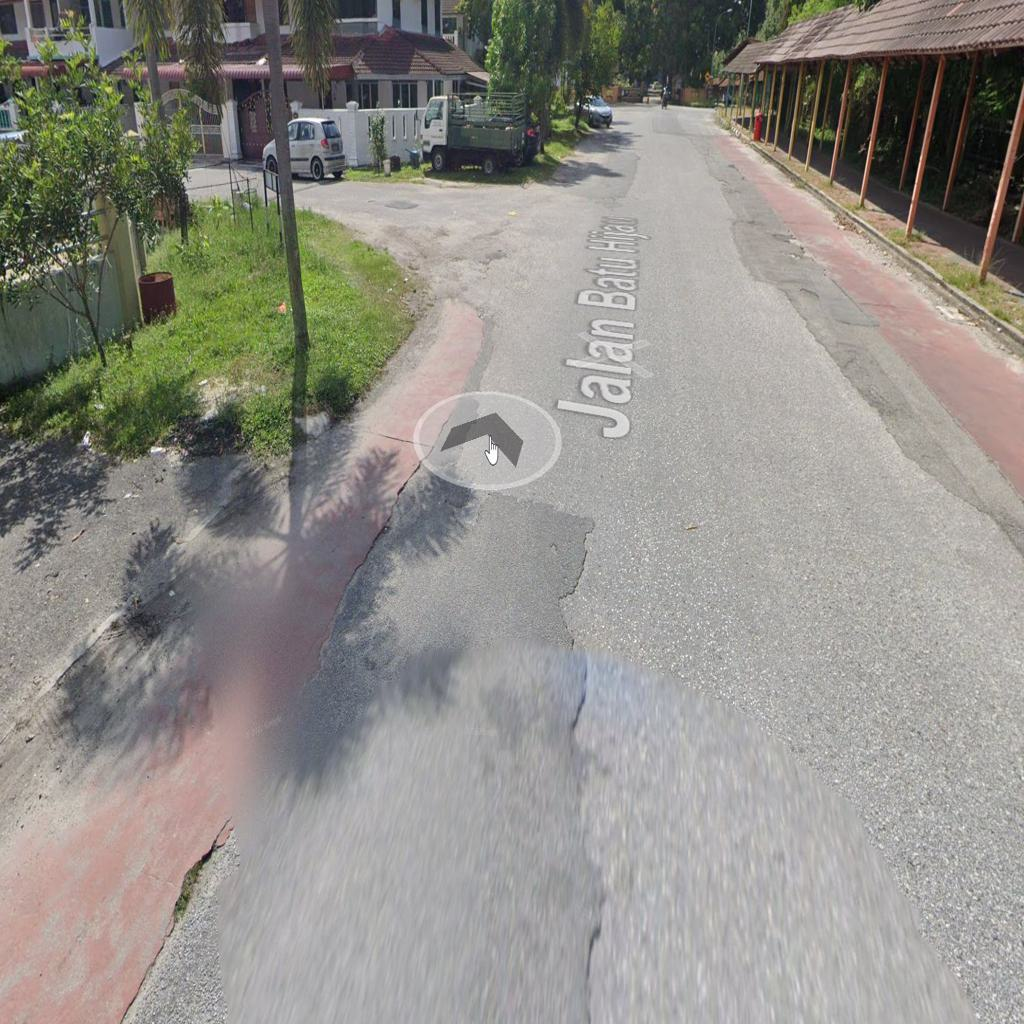Junction: (291, 121, 629, 380)
